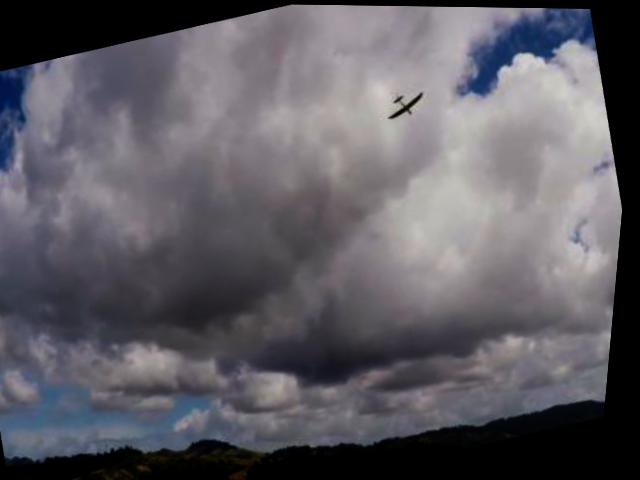uav: (377, 78, 434, 125)
